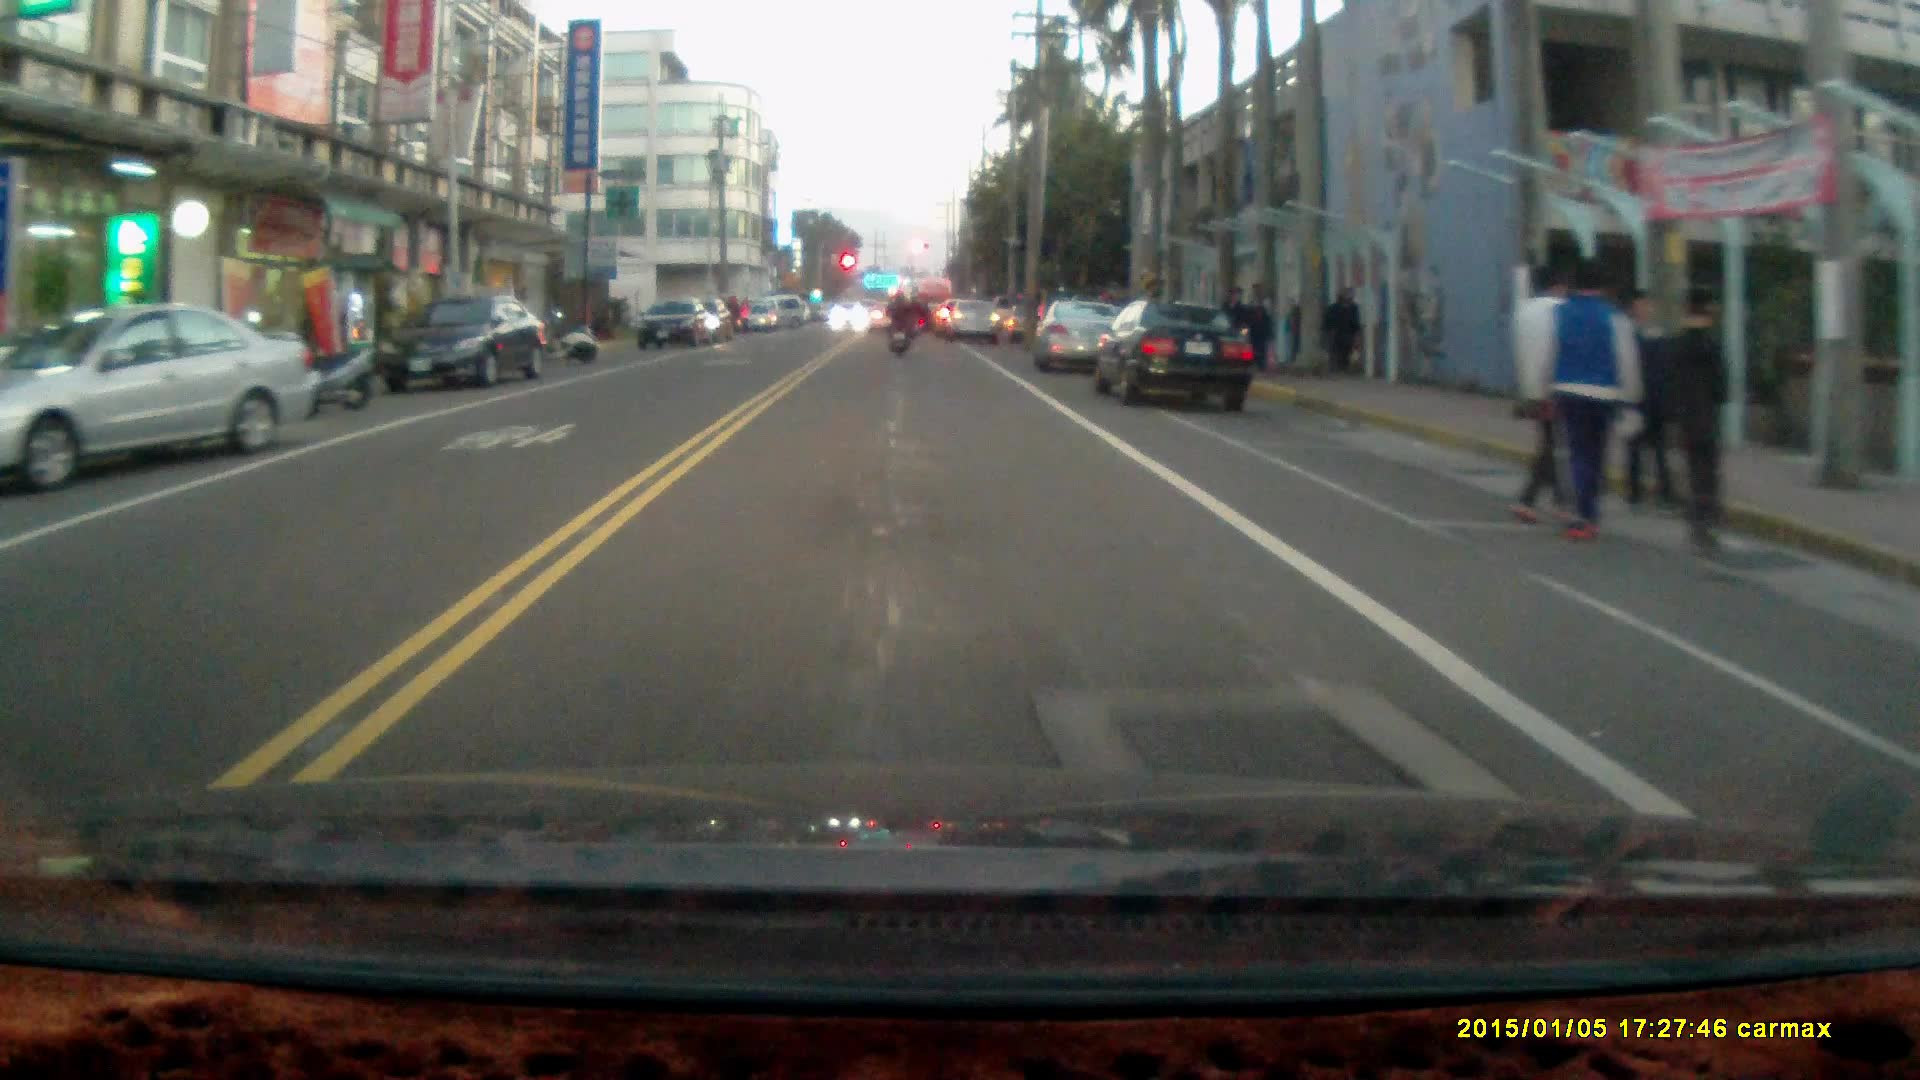pedestrian: (1538, 251, 1644, 541), (1660, 283, 1740, 559), (1508, 260, 1578, 528), (1620, 287, 1682, 520), (1323, 279, 1364, 381), (1238, 286, 1271, 374)
rider: (882, 283, 913, 355)
vehicle: (1, 302, 327, 483), (1094, 297, 1260, 411), (385, 289, 548, 389), (1034, 298, 1130, 376), (633, 294, 722, 350), (950, 295, 1005, 341)
